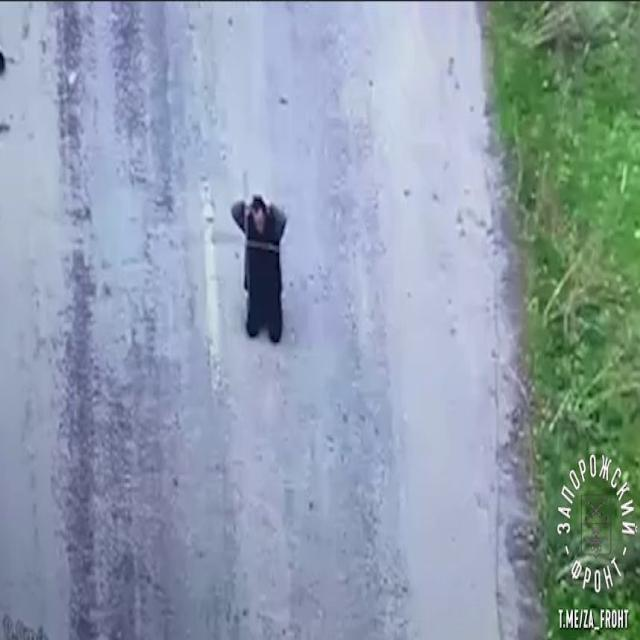infantry: (226, 172, 303, 356)
